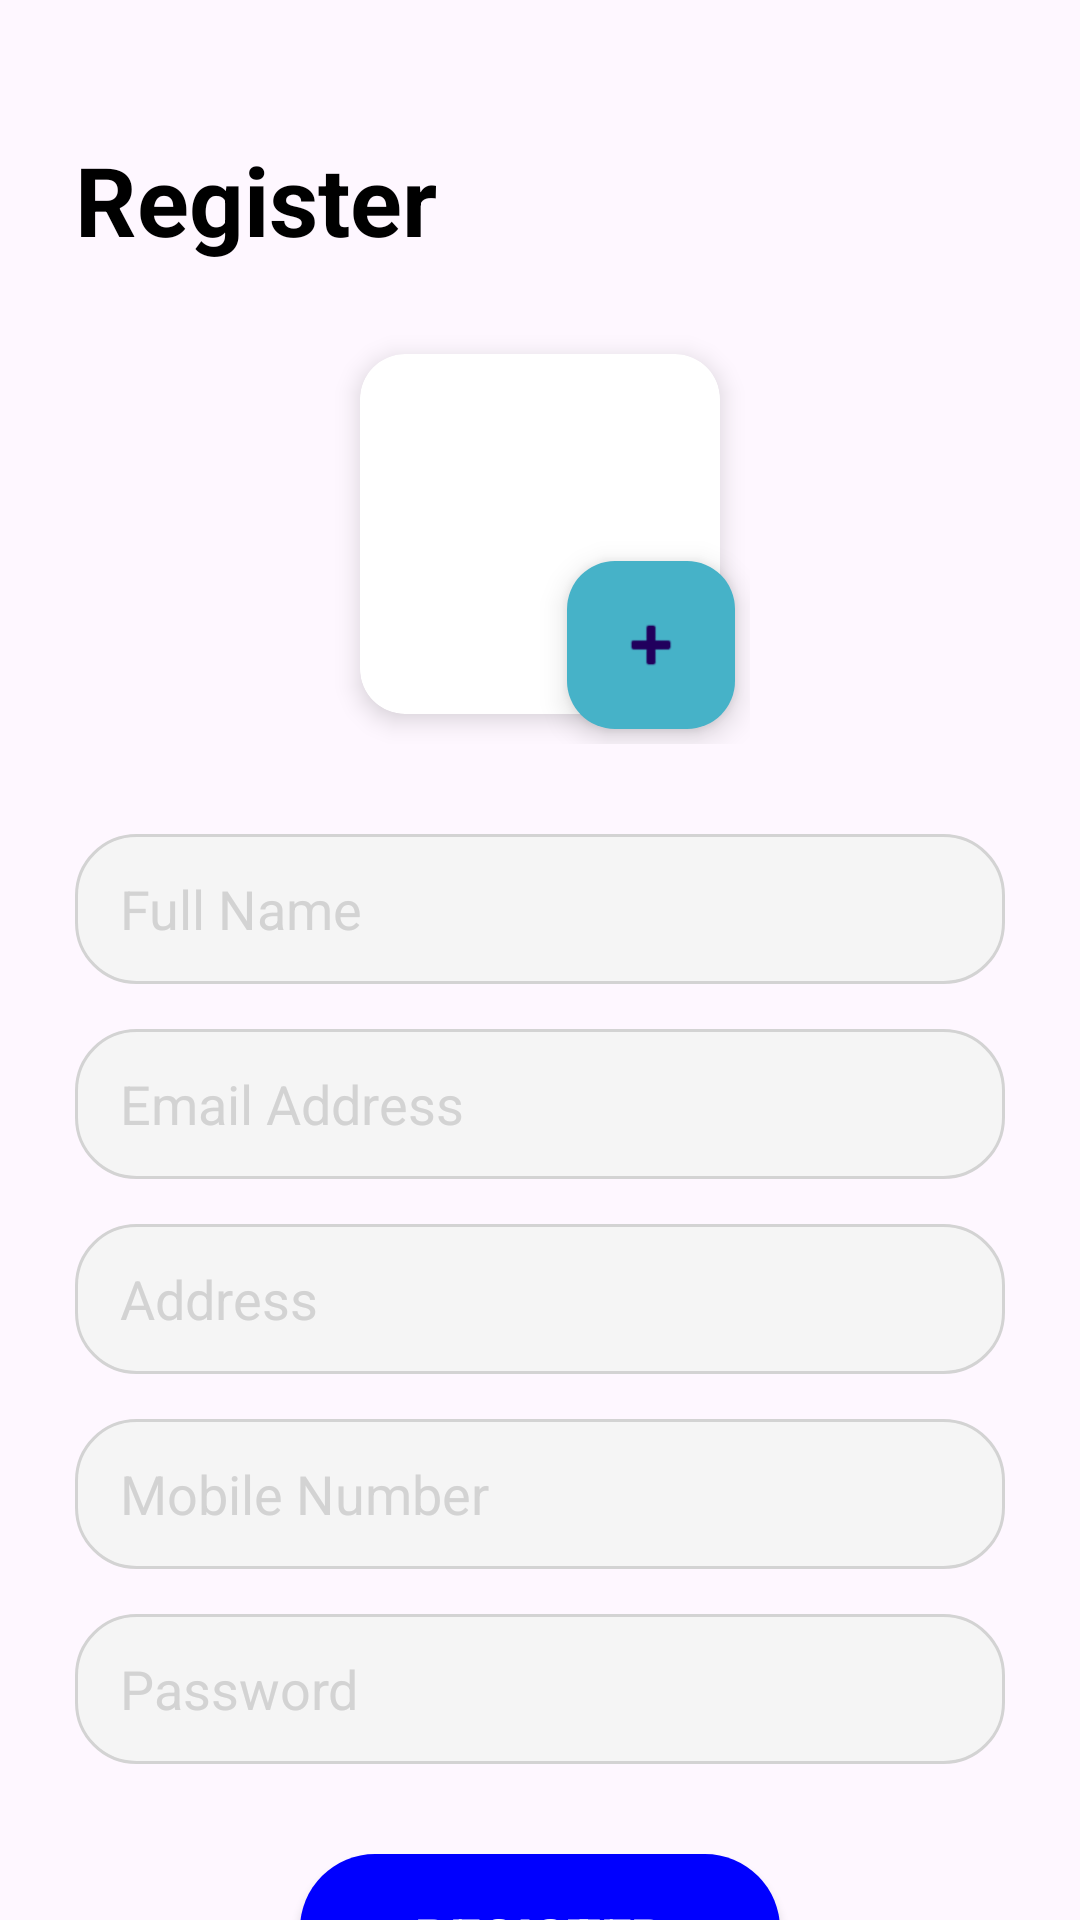

Where to tap for icons on this 1080*1920 app screen, as (x=x, y=y):
Add Profile Picture: (x=651, y=645)
